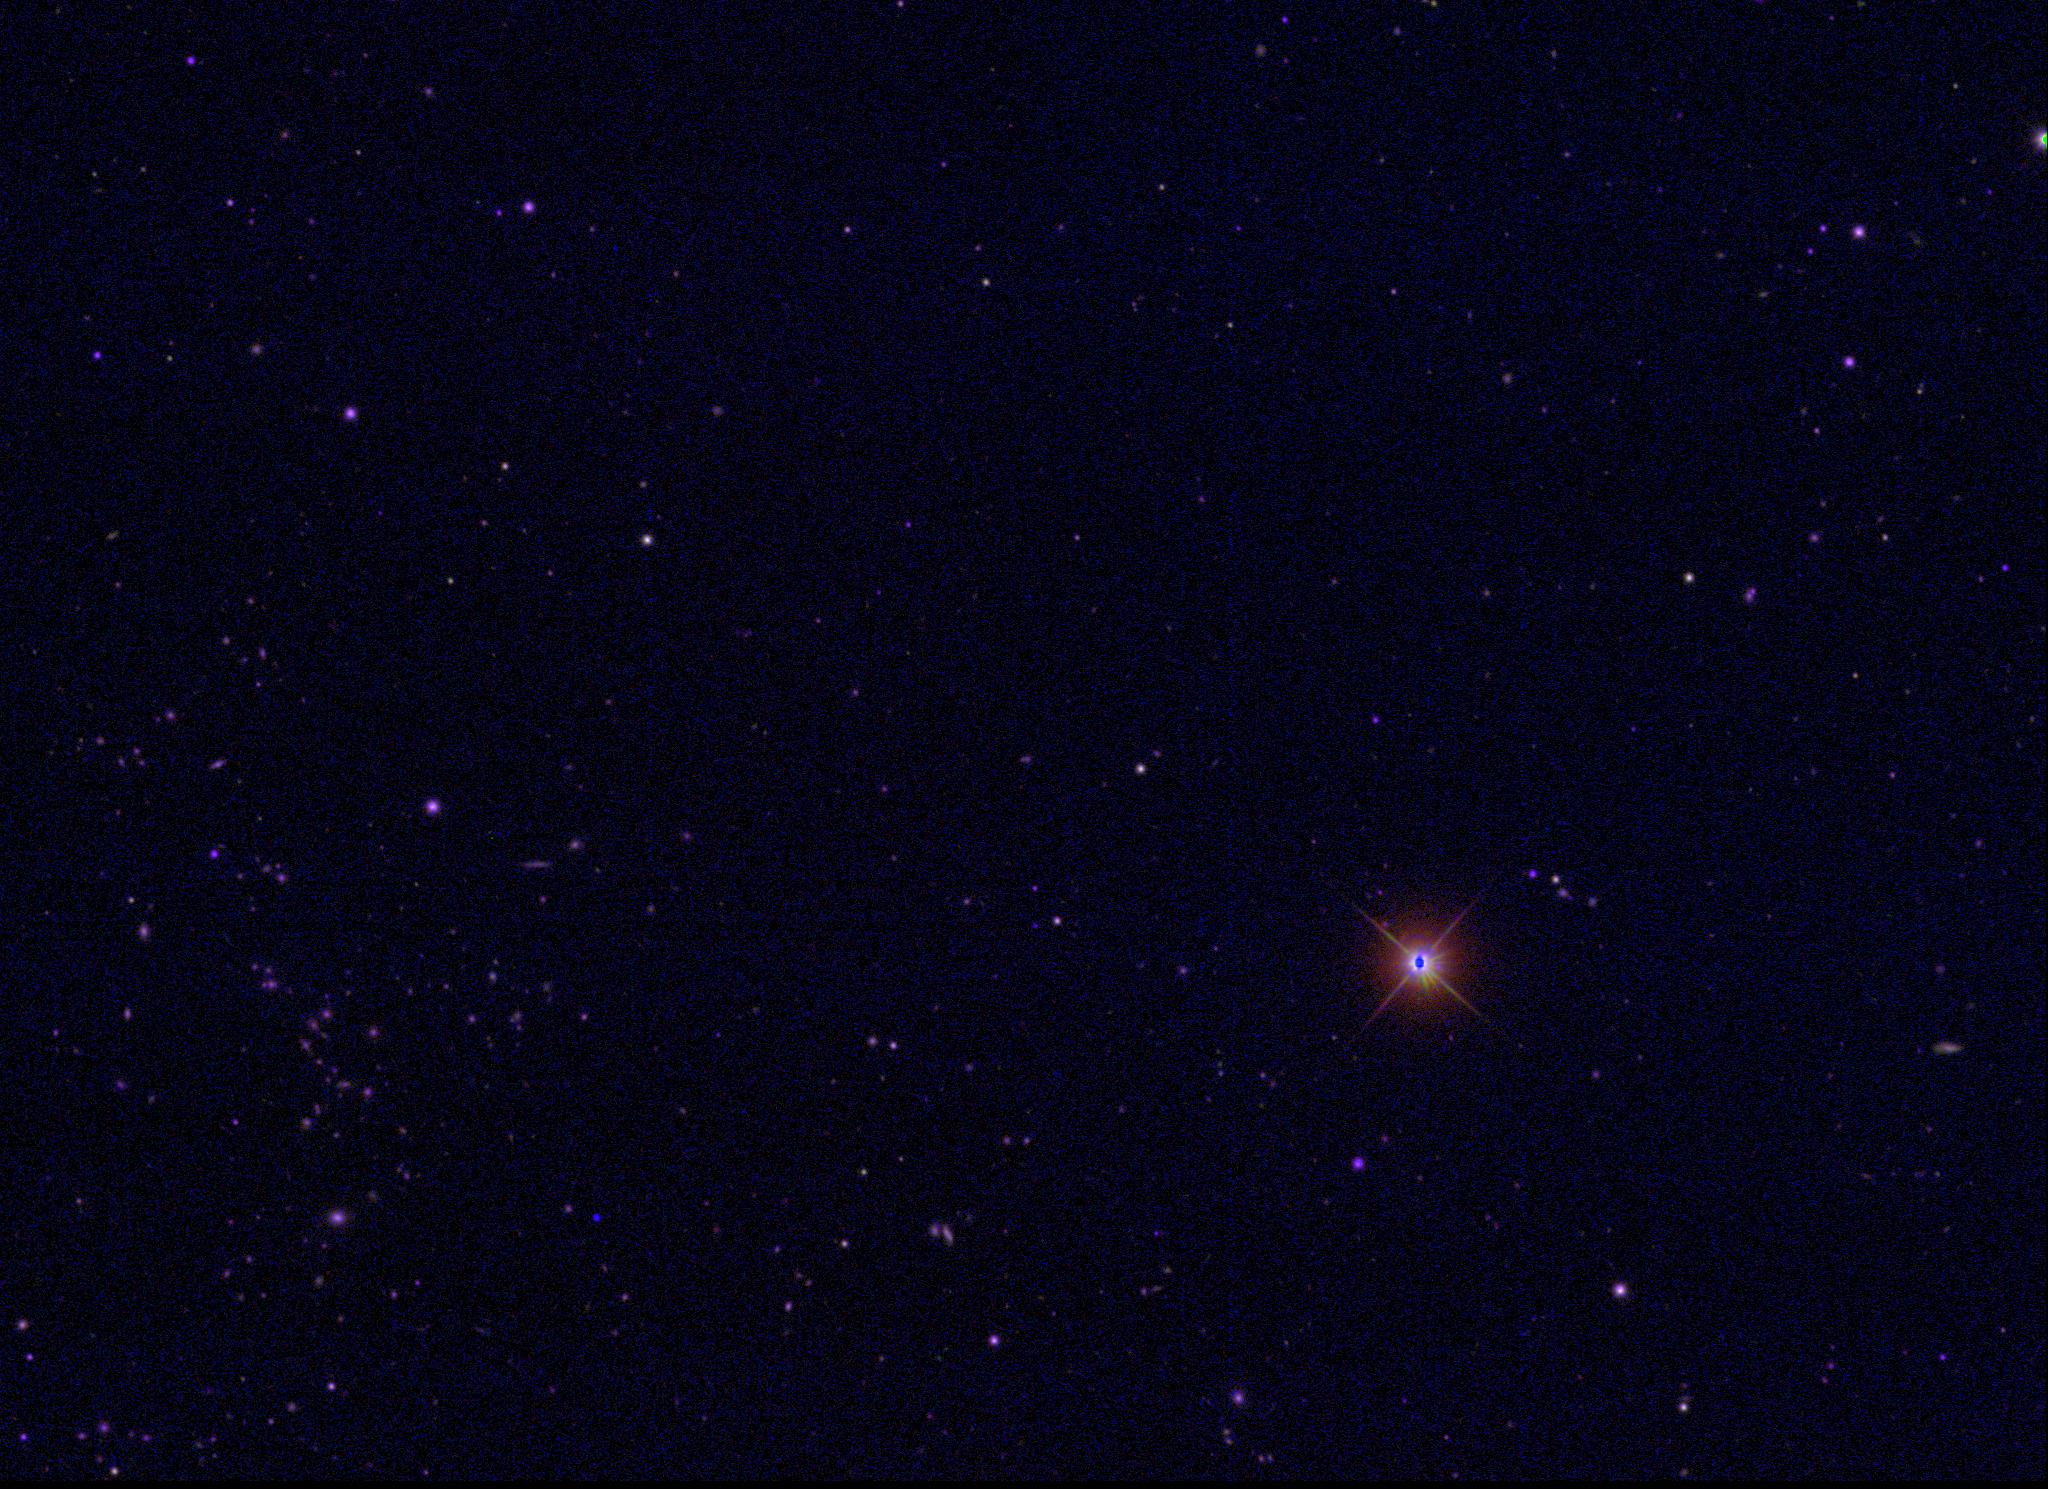L: (590, 1211, 604, 1225)
